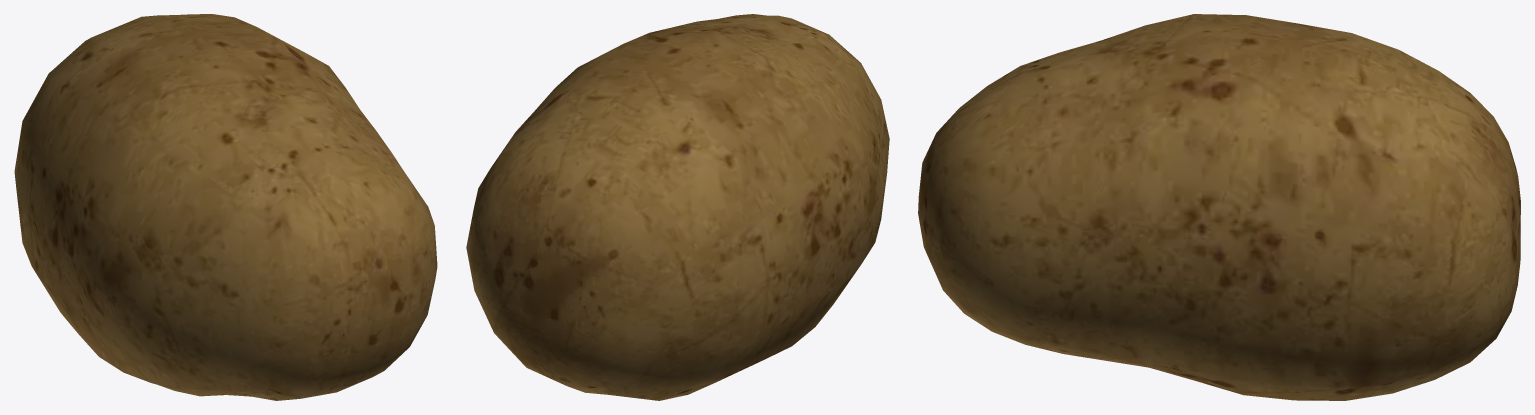
File: potato.worldmodel.glb
3 renders of one model, left to right at view 1: azimuth 30°, elevation 25°; view 2: azimuth 150°, elevation 25°; view 3: azimuth 270°, elevation 25°, orthographic. The views are drawn at different scales.
Parts seen in each view (by area): view 1: Potato_LOD0; view 2: Potato_LOD0; view 3: Potato_LOD0.
Part boxes in pixels (<box>): Potato_LOD0: <box>14,14,437,400</box>; Potato_LOD0: <box>466,14,889,400</box>; Potato_LOD0: <box>918,14,1520,400</box>.
Size of the model in its own units: 0.1614 by 0.1665 by 0.2603.
Materials: 1 (1 with a texture image).
